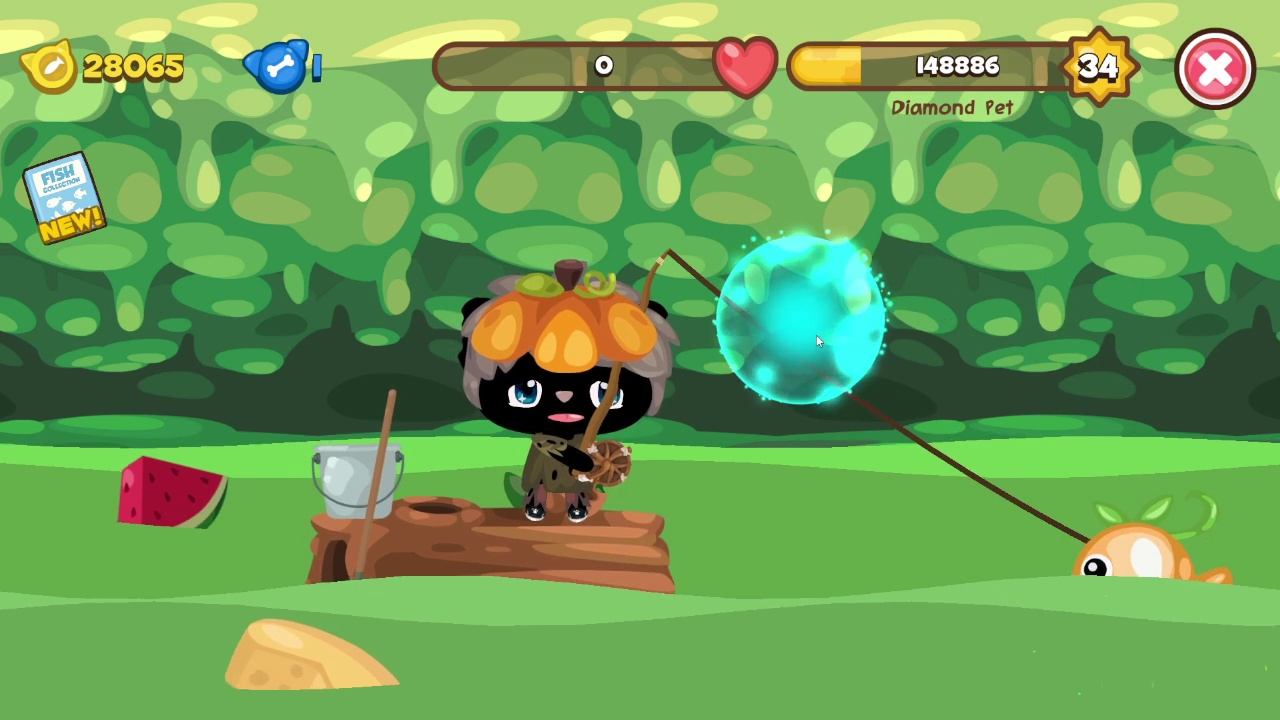point: (714, 232, 891, 406)
